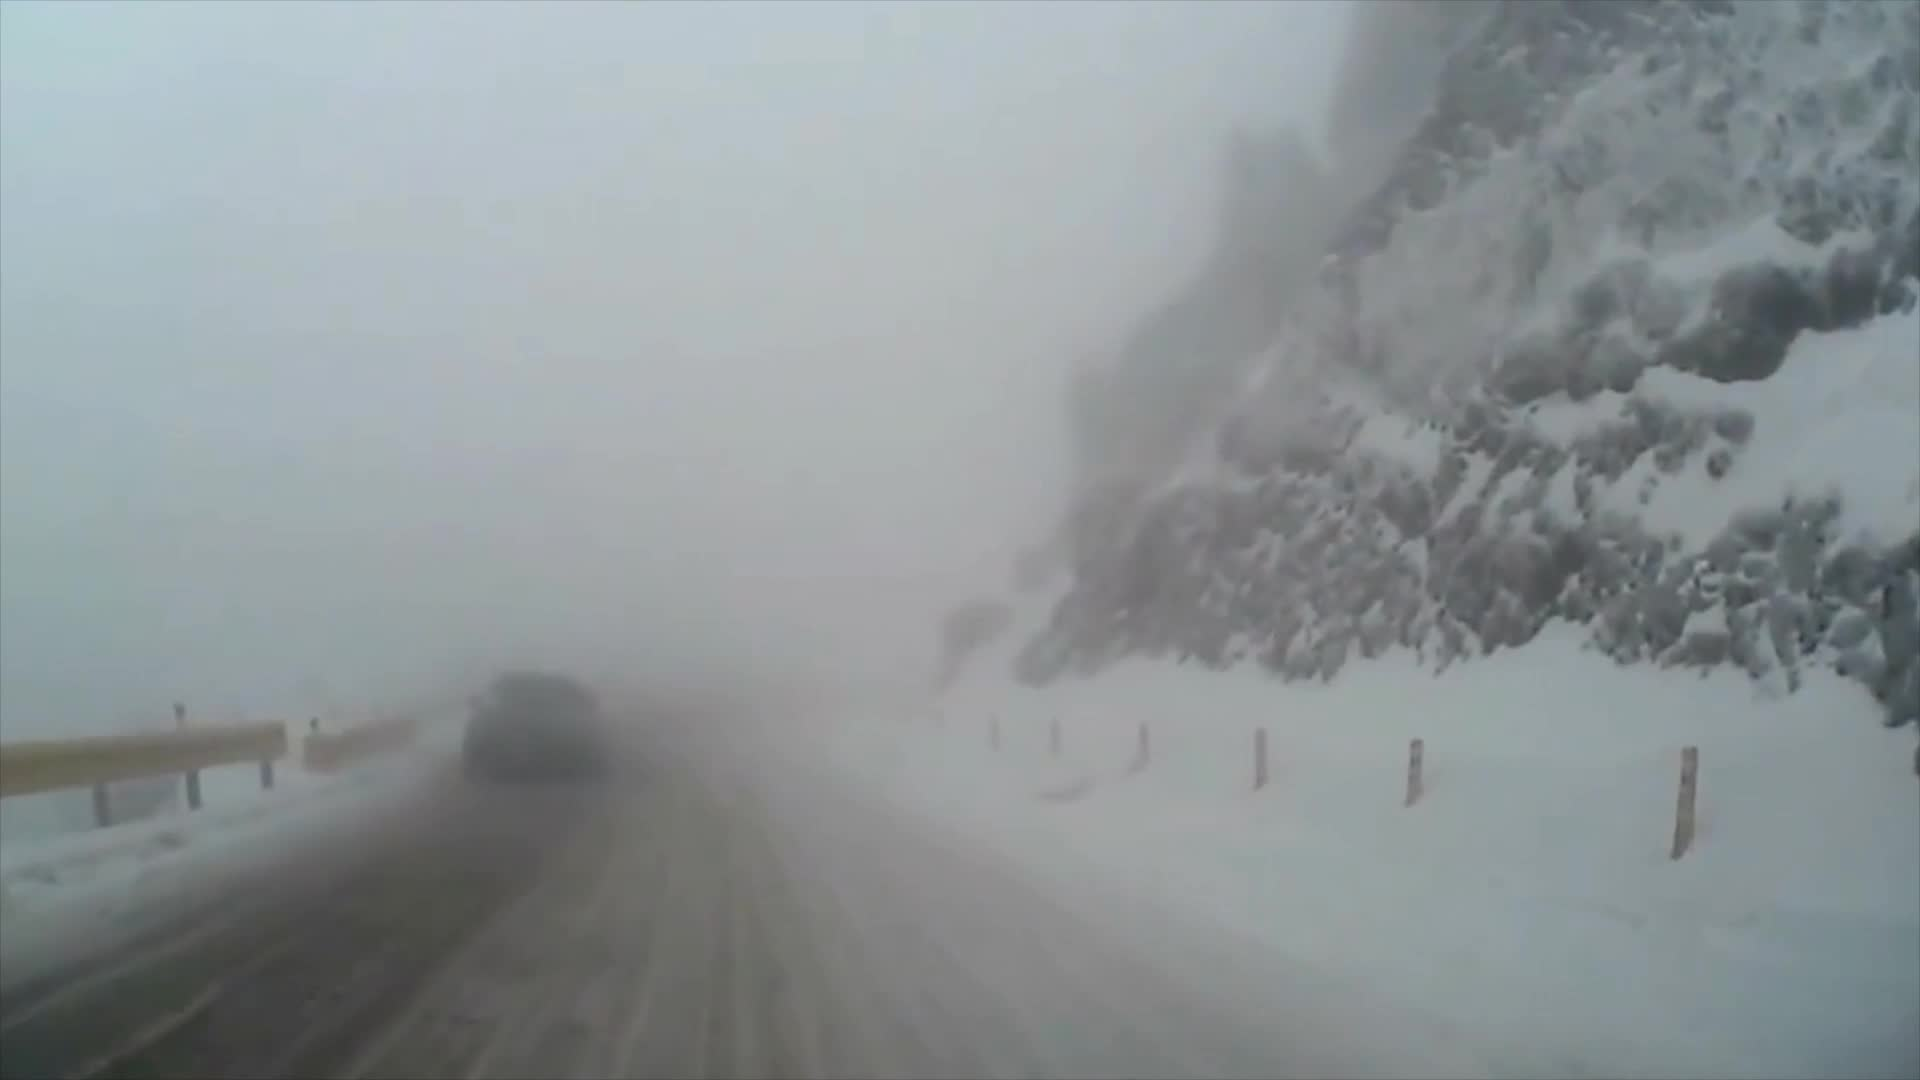vehicle: (460, 673, 607, 775)
